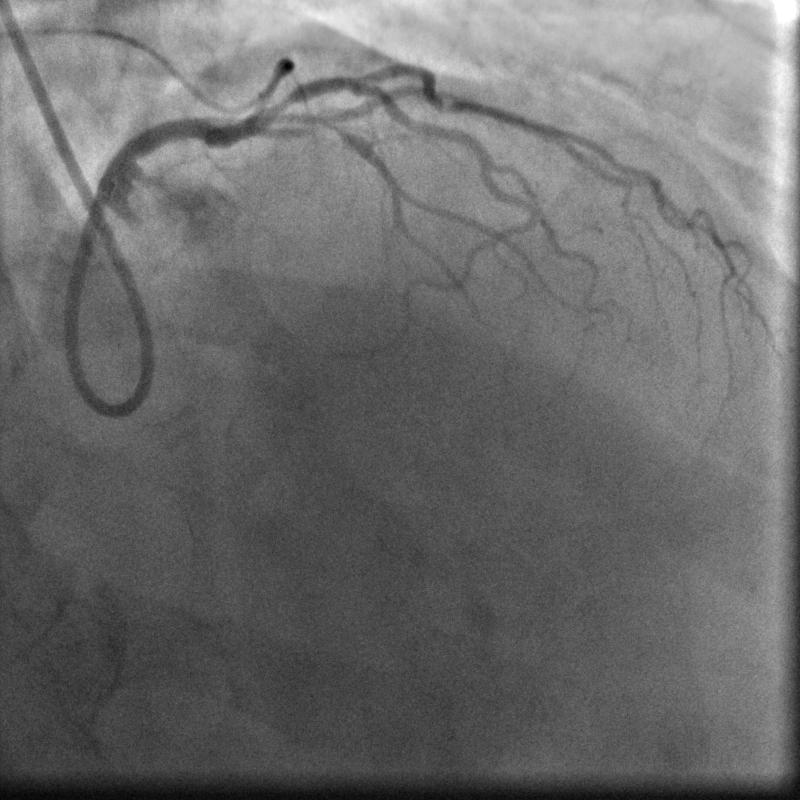Stenosis: (257, 91, 300, 121)
